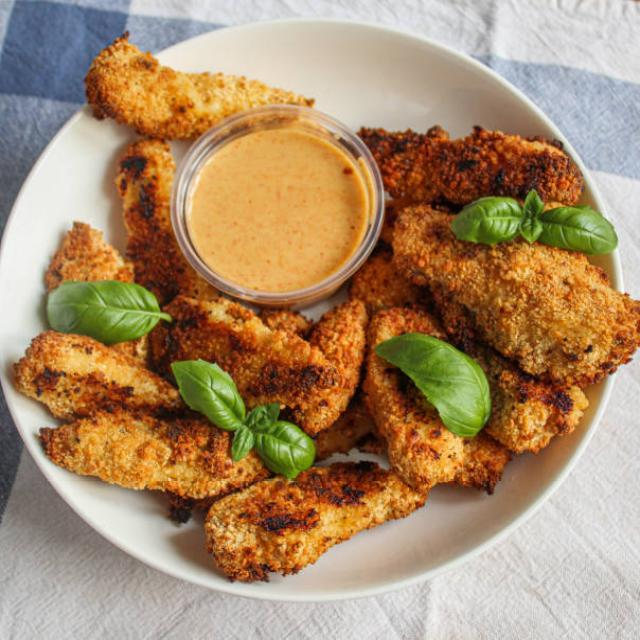Frango: (4, 31, 640, 588)
